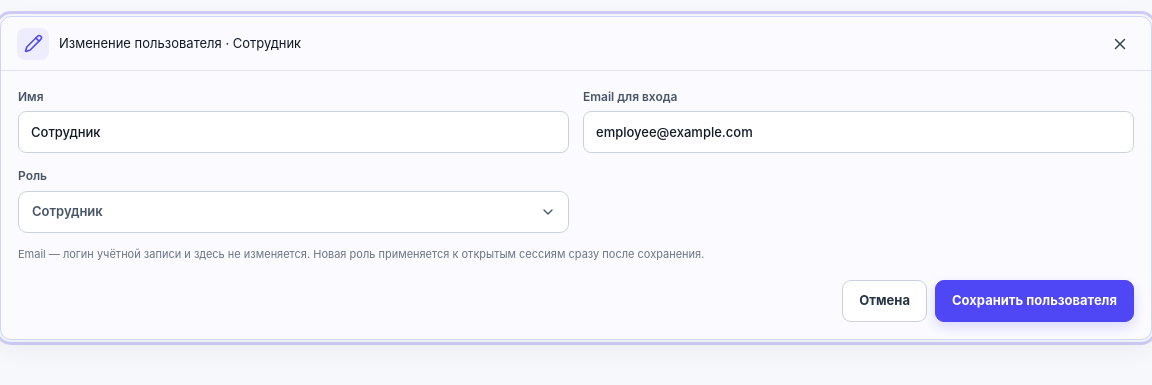
Test: Settings remote editors › refreshes the editor and explains an optimistic-lock conflict
Click the button "Сохранить пользователя" at (1034, 301), box x1=935 y1=280 x2=1134 y2=322
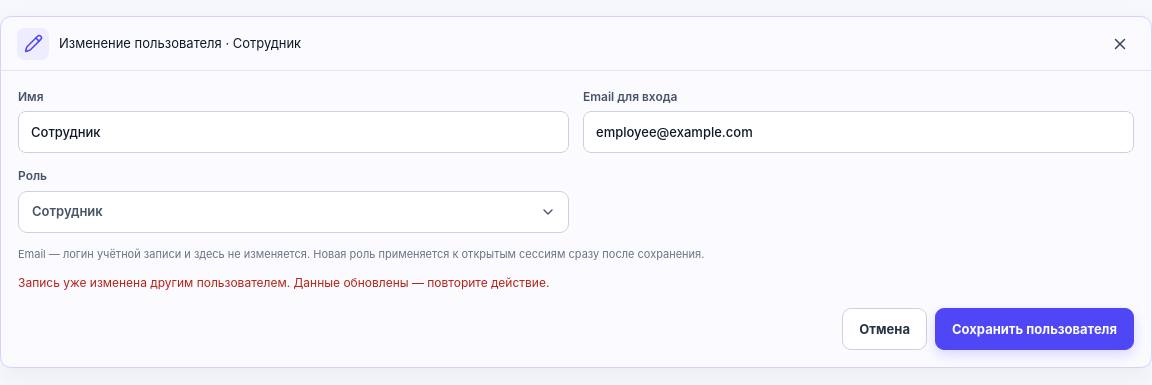
Expected: the message shows "Запись уже изменена другим пользователем", x1=18 y1=275 x2=549 y2=290
